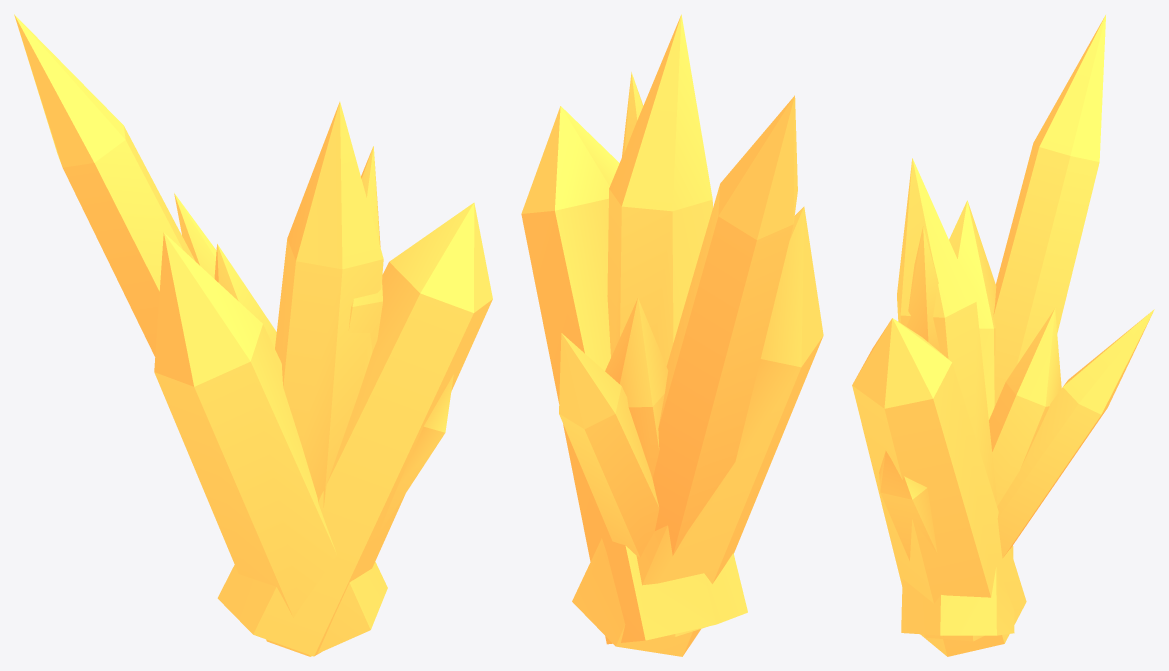
File: obj_deco_cristales_2.glb
3 views of the same model, side by side, from view 1: azimuth 30°, elevation 25°; view 2: azimuth 150°, elevation 25°; view 3: azimuth 270°, elevation 25° (orthographic). The views are drawn at different scales.
Parts seen in each view (by area): view 1: propforge-libre-deco_cristales; view 2: propforge-libre-deco_cristales; view 3: propforge-libre-deco_cristales.
Part boxes in pixels (box(x1,y1,x2,y2)): propforge-libre-deco_cristales: box(14, 14, 492, 656); propforge-libre-deco_cristales: box(521, 14, 823, 656); propforge-libre-deco_cristales: box(852, 15, 1154, 656).
Bounding box in the file's own units: 0.3772 × 0.633 × 0.3202.
